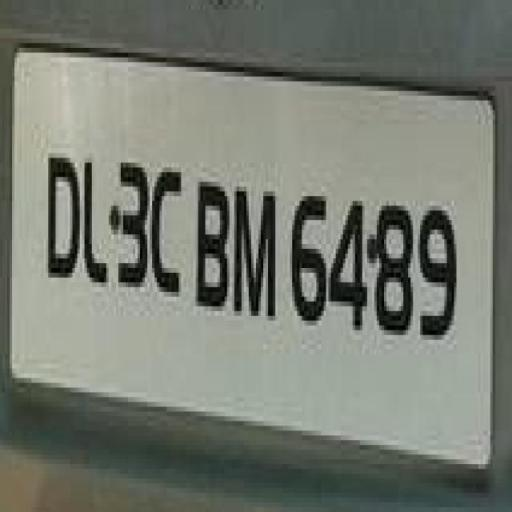number plate: (0, 62, 490, 431)
